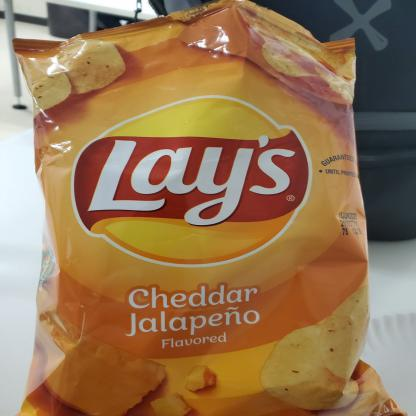potatochip: (0, 0, 407, 416)
